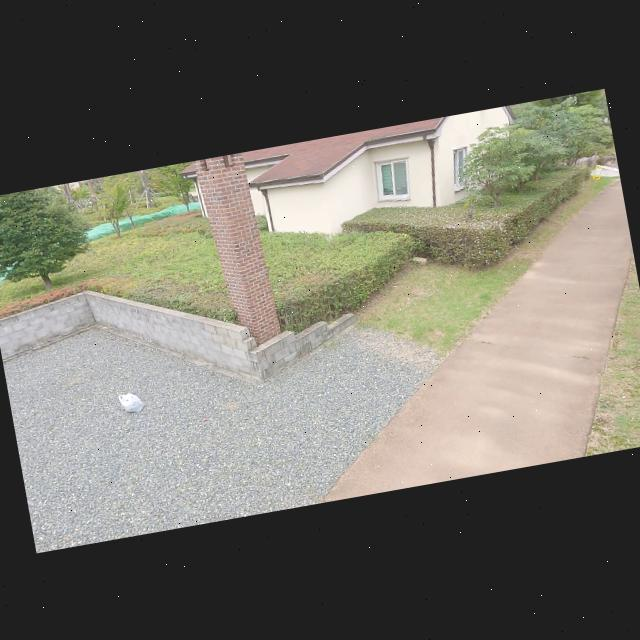trash: (115, 384, 156, 420)
